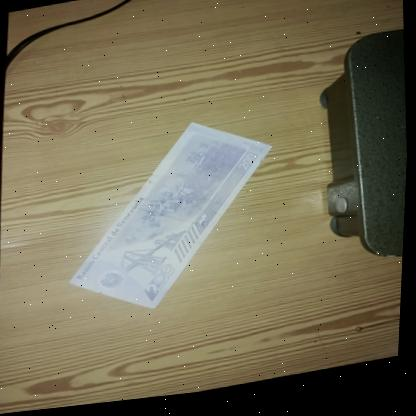two_hundred-back-vef: (60, 112, 285, 328)
